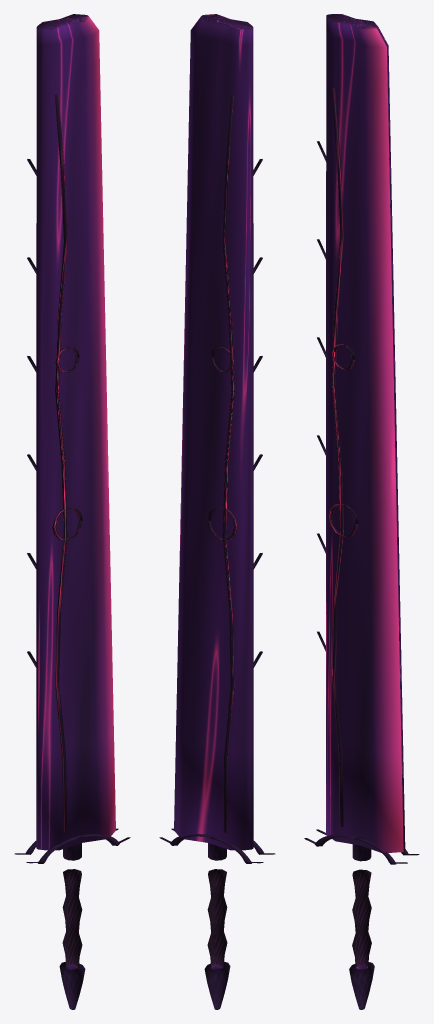
File: sword_09_abyssal_guillotine.glb
The picture shows the model from 3 angles, left to right: view 1: azimuth 30°, elevation 25°; view 2: azimuth 150°, elevation 25°; view 3: azimuth 330°, elevation 25°; orthographic projection.
Visible parts, largest first — view 1: Blade_AbyssGuillotine, Inlay_RoseVeins, Grip_AbyssWrap, Pommel_BloodDrop, Holes_AbyssAperture, Guard_AbyssMaw, Spine_TortureBarbs; view 2: Blade_AbyssGuillotine, Inlay_RoseVeins, Grip_AbyssWrap, Pommel_BloodDrop, Holes_AbyssAperture, Guard_AbyssMaw, Spine_TortureBarbs; view 3: Blade_AbyssGuillotine, Inlay_RoseVeins, Grip_AbyssWrap, Pommel_BloodDrop, Holes_AbyssAperture, Guard_AbyssMaw, Spine_TortureBarbs.
Boxes of the visible parts, x1,y1,x2,y2 form: Blade_AbyssGuillotine: (36,14,115,850); Inlay_RoseVeins: (55,94,67,832); Grip_AbyssWrap: (62,869,82,970); Pommel_BloodDrop: (59,962,85,1009); Holes_AbyssAperture: (52,347,82,540); Guard_AbyssMaw: (14,828,130,863); Spine_TortureBarbs: (27,159,36,668); Blade_AbyssGuillotine: (174,14,253,850); Inlay_RoseVeins: (222,94,234,832); Grip_AbyssWrap: (207,869,227,970); Pommel_BloodDrop: (204,962,230,1009); Holes_AbyssAperture: (207,347,237,540); Guard_AbyssMaw: (159,828,275,863); Spine_TortureBarbs: (253,159,262,668); Blade_AbyssGuillotine: (326,14,405,852); Inlay_RoseVeins: (331,87,344,826); Grip_AbyssWrap: (352,869,371,970); Pommel_BloodDrop: (349,962,374,1009); Holes_AbyssAperture: (328,344,358,536); Guard_AbyssMaw: (304,829,419,864); Spine_TortureBarbs: (317,141,326,651).
Bounding box in the file's own units: 0.2878 × 2.6 × 0.0777.
Materials: 1 (1 with a texture image).
